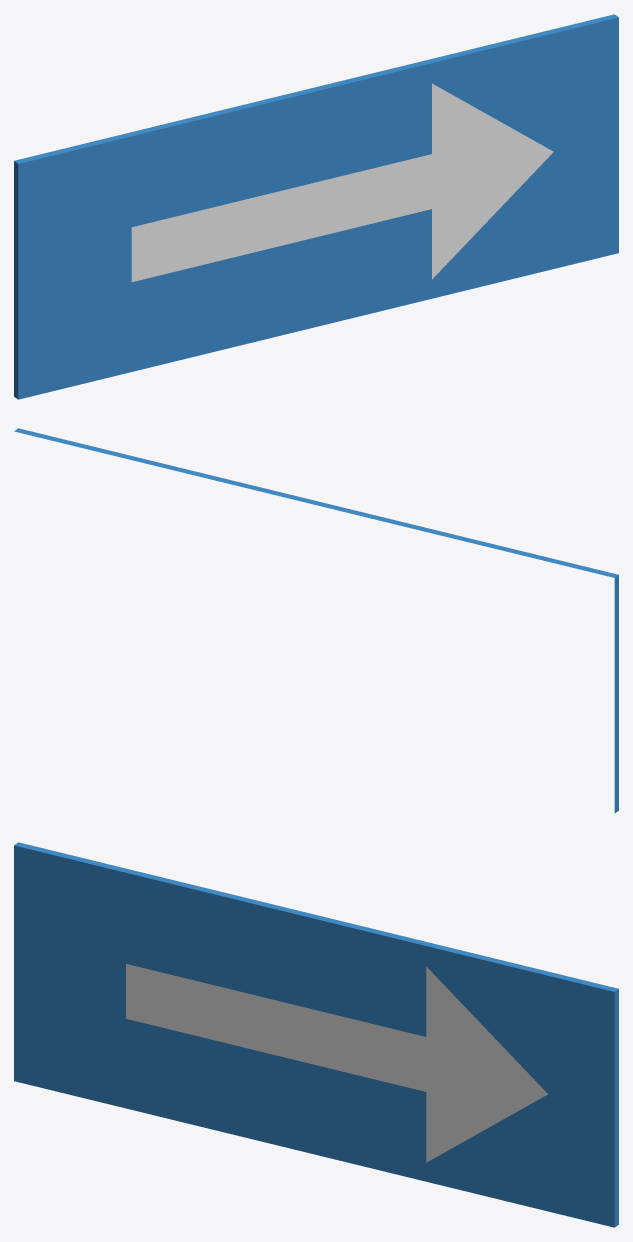
The model's file is fac_sign_directional.glb.
The picture shows the model from 3 angles, top to bottom: view 1: azimuth 30°, elevation 25°; view 2: azimuth 150°, elevation 25°; view 3: azimuth 330°, elevation 25°; orthographic projection.
Parts seen in each view (by area): view 1: Body; view 2: Body; view 3: Body.
Part boxes in pixels (x1,y1,x2,y2): Body: (14, 14, 618, 399); Body: (14, 428, 618, 813); Body: (14, 842, 618, 1227).
Size of the model in its own units: 0.32 by 0.12 by 0.0046.
